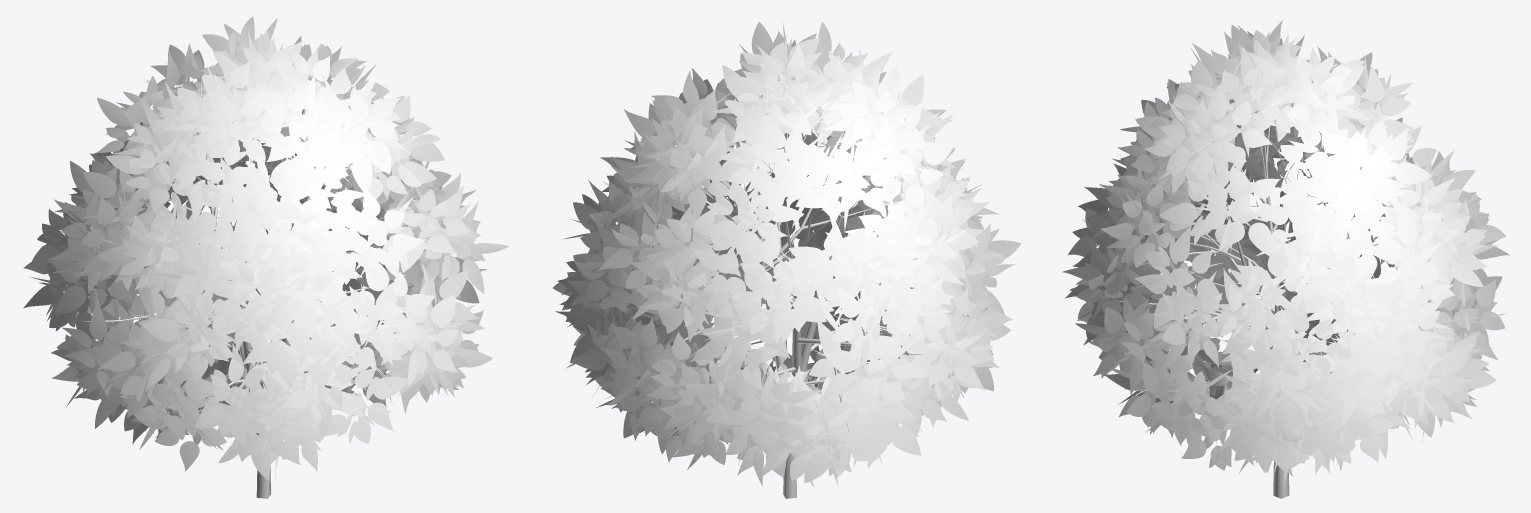
Rendered from Farmi_Puu_Testi7_LOD2.fbx.
3 renders of one model, left to right at view 1: azimuth 30°, elevation 25°; view 2: azimuth 150°, elevation 25°; view 3: azimuth 270°, elevation 25°, orthographic. The views are drawn at different scales.
Parts seen in each view (by area): view 1: Lehdet_Farmi_Puu_Testi7_LOD2, Trunk_Farmi_Puu_Testi7_LOD2; view 2: Lehdet_Farmi_Puu_Testi7_LOD2, Trunk_Farmi_Puu_Testi7_LOD2; view 3: Lehdet_Farmi_Puu_Testi7_LOD2, Trunk_Farmi_Puu_Testi7_LOD2.
Part boxes in pixels (bbox=[...]): Lehdet_Farmi_Puu_Testi7_LOD2: bbox=[23, 16, 509, 480]; Trunk_Farmi_Puu_Testi7_LOD2: bbox=[81, 78, 420, 498]; Lehdet_Farmi_Puu_Testi7_LOD2: bbox=[553, 21, 1020, 487]; Trunk_Farmi_Puu_Testi7_LOD2: bbox=[660, 96, 922, 498]; Lehdet_Farmi_Puu_Testi7_LOD2: bbox=[1062, 20, 1509, 483]; Trunk_Farmi_Puu_Testi7_LOD2: bbox=[1117, 102, 1415, 498].
Bounding box in the file's own units: 1225 × 1306 × 1183.
